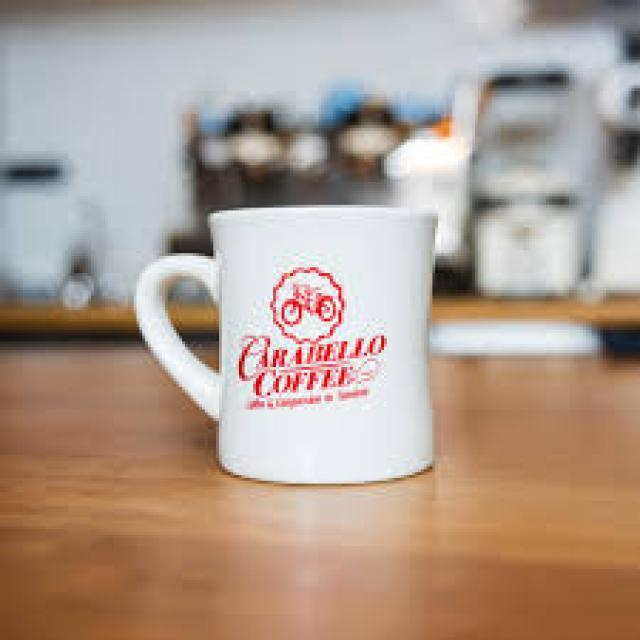taza: (134, 204, 442, 486)
